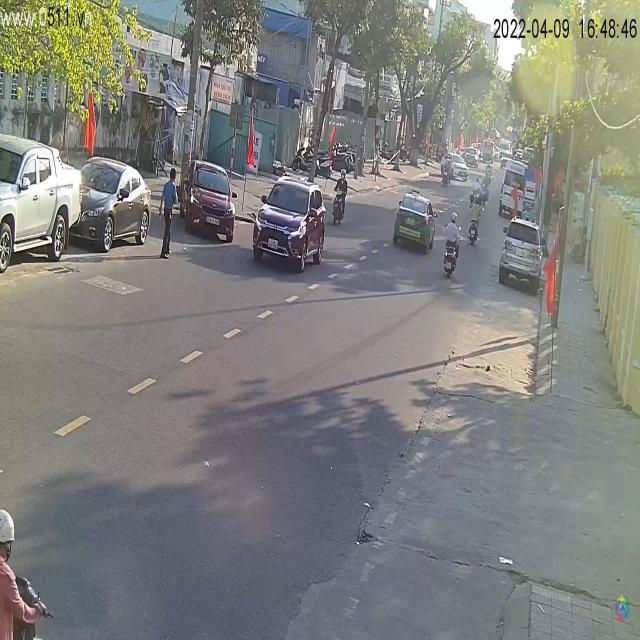car: (1, 133, 83, 275), (73, 158, 156, 252), (251, 177, 327, 270), (184, 162, 238, 243), (500, 214, 545, 294), (393, 192, 436, 254)
motorcycle: (332, 182, 347, 230), (442, 246, 459, 278), (468, 221, 478, 245)
